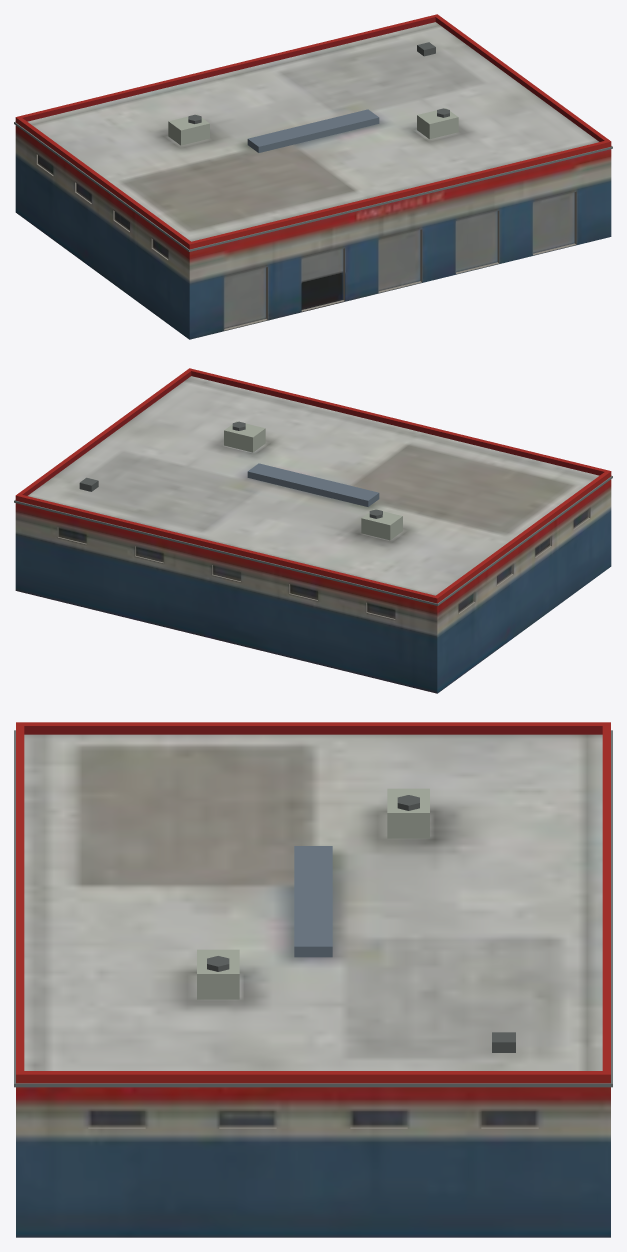
The model's file is seattle_low_g.glb.
3 renders of one model, top to bottom at view 1: azimuth 30°, elevation 25°; view 2: azimuth 150°, elevation 25°; view 3: azimuth 270°, elevation 25°, orthographic. The views are drawn at different scales.
Parts seen in each view (by area): view 1: seattle_low_g; view 2: seattle_low_g; view 3: seattle_low_g.
Boxes of the visible parts, left/top/right/bottom form: seattle_low_g: left=14, top=14, right=612, bottom=339; seattle_low_g: left=14, top=368, right=612, bottom=693; seattle_low_g: left=14, top=722, right=612, bottom=1237.
Size of the model in its own units: 35.16 by 8.6 by 25.16.
Materials: 1 (1 with a texture image).
